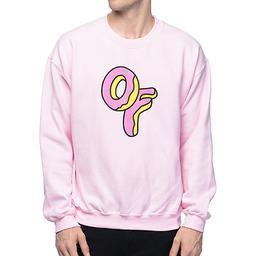sweater: (40, 15, 214, 233)
